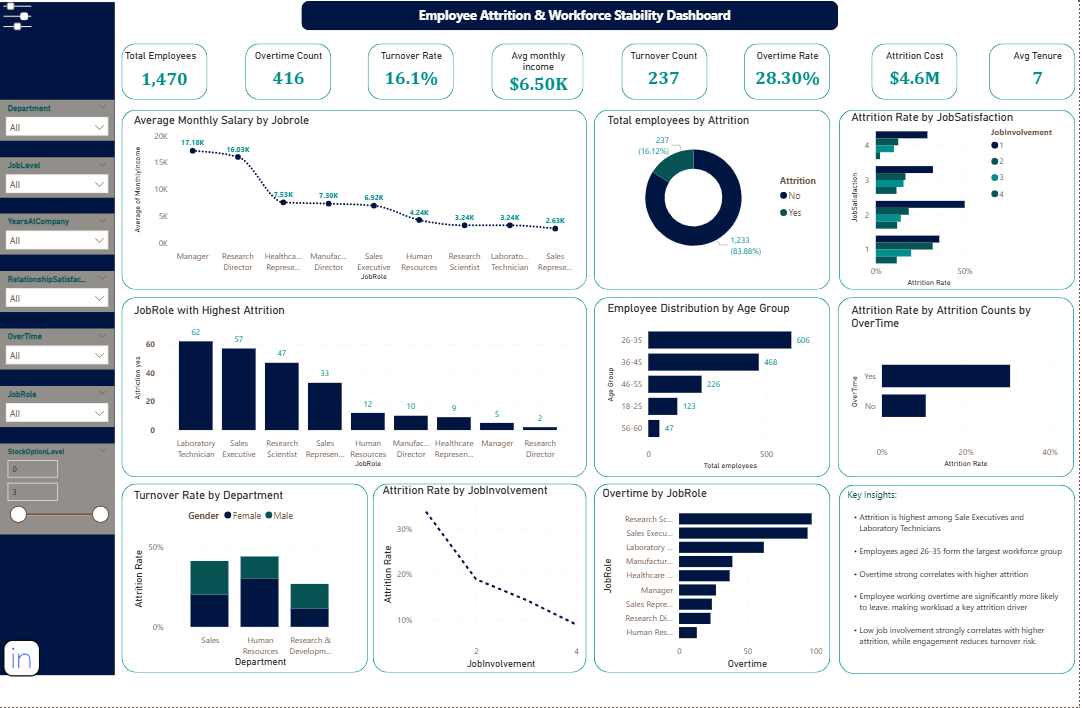

What the dashboard file says about the page in this screenshot:
{"tool":"powerbi","page":{"name":"Page 1","canvas":[1600,1060],"ordinal":0},"visuals":[{"type":"shape","box":[181.8,175.4,689.4,266.7],"z":0},{"type":"card","title":"Total Employees","fields":{"Values":["WA_Fn-UseC_-HR-Employee-Attrition.Total employees"]},"box":[181.8,86.4,127.3,68.2],"z":1000},{"type":"card","title":"Turnover Count","fields":{"Values":["Sum(WA_Fn-UseC_-HR-Employee-Attrition.Attrition Counts)"]},"box":[925.8,86.4,118.2,66.7],"z":2000},{"type":"card","title":"Turnover Rate","fields":{"Values":["WA_Fn-UseC_-HR-Employee-Attrition.Attrition Rate"]},"box":[551.5,86.4,118.2,66.7],"z":3000},{"type":"card","title":"Overtime Count","fields":{"Values":["WA_Fn-UseC_-HR-Employee-Attrition.Overtime(yes)"]},"box":[368.2,86.4,121.2,66.7],"z":4000},{"type":"card","title":"Avg monthly income","fields":{"Values":["WA_Fn-UseC_-HR-Employee-Attrition.avg monthincome"]},"box":[736.4,86.4,124.2,66.7],"z":5000},{"type":"card","title":"Overtime Rate","fields":{"Values":["WA_Fn-UseC_-HR-Employee-Attrition.over"]},"box":[1109.1,86.4,118.2,66.7],"z":6000},{"type":"clusteredBarChart","title":"Employee Distribution by Age Group","fields":{"Category":["WA_Fn-UseC_-HR-Employee-Attrition.Age Group"],"Y":["WA_Fn-UseC_-HR-Employee-Attrition.Total employees"]},"box":[895.5,459.1,324.2,254.5],"z":7000},{"type":"donutChart","fields":{"Category":["WA_Fn-UseC_-HR-Employee-Attrition.Attrition"],"Y":["WA_Fn-UseC_-HR-Employee-Attrition.Total employees"]},"box":[895.5,181.8,336.4,230.3],"z":8000},{"type":"shape","box":[448.7,15.7,795,43.3],"z":9000},{"type":"shape","box":[0,16.7,171.2,997],"z":10000},{"type":"textbox","box":[603.3,18.4,498.5,37.9],"z":11000},{"type":"shape","box":[181.8,77.3,127.3,83.3],"z":12000},{"type":"stackedAreaChart","title":"Average Monthly Salary by Jobrole","fields":{"Category":["WA_Fn-UseC_-HR-Employee-Attrition.JobRole"],"Y":["Avg(WA_Fn-UseC_-HR-Employee-Attrition.MonthlyIncome)"]},"box":[193.9,181.8,666.7,253],"z":13000},{"type":"shape","box":[547,77.3,127.3,83.3],"z":14000},{"type":"shape","box":[364.5,77.3,127.3,83.3],"z":15000},{"type":"shape","box":[730,77.3,136.4,83.3],"z":16000},{"type":"shape","box":[921.8,77.3,127.3,83.3],"z":17000},{"type":"shape","box":[1104.5,77.3,127.3,83.3],"z":18000},{"type":"shape","box":[881.8,175.8,350,266.7],"z":19000},{"type":"columnChart","title":"JobRole with Highest Attrition","fields":{"Category":["WA_Fn-UseC_-HR-Employee-Attrition.JobRole"],"Y":["WA_Fn-UseC_-HR-Employee-Attrition.Attriction yes"]},"box":[193.9,462.1,663.6,248.5],"z":20000},{"type":"shape","box":[181.8,453,689.4,266.7],"z":21000},{"type":"shape","box":[881.8,453,350,266.7],"z":22000},{"type":"slicer","fields":{"Values":["WA_Fn-UseC_-HR-Employee-Attrition.Department"]},"box":[0,160.6,171.2,60.6],"z":23000},{"type":"slicer","fields":{"Values":["WA_Fn-UseC_-HR-Employee-Attrition.JobLevel"]},"box":[0,245.8,171.2,60],"z":24000},{"type":"slicer","fields":{"Values":["WA_Fn-UseC_-HR-Employee-Attrition.YearsAtCompany"]},"box":[0,330.4,171.2,60.6],"z":25000},{"type":"slicer","fields":{"Values":["WA_Fn-UseC_-HR-Employee-Attrition.RelationshipSatisfaction"]},"box":[0,415.6,171.2,60.6],"z":26000},{"type":"columnChart","title":"Turnover Rate by Department","fields":{"Category":["WA_Fn-UseC_-HR-Employee-Attrition.Department"],"Y":["WA_Fn-UseC_-HR-Employee-Attrition.Attrition Rate"],"Series":["WA_Fn-UseC_-HR-Employee-Attrition.Gender"]},"box":[193.9,737.9,331.8,269.7],"z":27000},{"type":"shape","box":[181.8,730.3,365.2,280.3],"z":28000},{"type":"lineChart","fields":{"Category":["WA_Fn-UseC_-HR-Employee-Attrition.JobInvolvement"],"Y":["WA_Fn-UseC_-HR-Employee-Attrition.Attrition Rate"]},"box":[563.6,730.3,307.6,280.3],"z":29000},{"type":"shape","box":[554.5,730.3,316.7,280.3],"z":30000},{"type":"shape","box":[881.8,730.3,350,280.3],"z":31000},{"type":"clusteredBarChart","title":"Overtime by JobRole","fields":{"Category":["WA_Fn-UseC_-HR-Employee-Attrition.JobRole"],"Y":["WA_Fn-UseC_-HR-Employee-Attrition.Overtime(yes)"]},"box":[889.4,733.3,336.4,277.3],"z":32000},{"type":"slicer","fields":{"Values":["WA_Fn-UseC_-HR-Employee-Attrition.OverTime"]},"box":[0,500.8,171.2,60.6],"z":33000},{"type":"slicer","fields":{"Values":["WA_Fn-UseC_-HR-Employee-Attrition.JobRole"]},"box":[0,586,171.2,60.6],"z":34000},{"type":"slicer","fields":{"Values":["WA_Fn-UseC_-HR-Employee-Attrition.StockOptionLevel"]},"box":[0,671.2,171.2,133.3],"z":35000},{"type":"shape","box":[1466.7,77.8,127.8,83.3],"z":38000},{"type":"shape","box":[1292.4,77.3,127.3,83.3],"z":39000},{"type":"card","title":"Attrition Cost","fields":{"Values":["WA_Fn-UseC_-HR-Employee-Attrition.Attrition Cost"]},"box":[1303,86.4,106.1,66.7],"z":40000},{"type":"card","title":"Avg Tenure","fields":{"Values":["WA_Fn-UseC_-HR-Employee-Attrition.Avg Tenure"]},"box":[1484.8,86.4,107.6,65.2],"z":41000},{"type":"clusteredBarChart","title":"Attrition Rate by JobSatisfaction","fields":{"Category":["WA_Fn-UseC_-HR-Employee-Attrition.JobSatisfaction"],"Y":["WA_Fn-UseC_-HR-Employee-Attrition.Attrition Rate"],"Series":["WA_Fn-UseC_-HR-Employee-Attrition.JobInvolvement"]},"box":[1257.6,175.8,322.7,266.7],"z":42000},{"type":"shape","box":[1243.9,175.8,350,266.7],"z":43000},{"type":"shape","box":[1242.4,453,350,266.7],"z":44000},{"type":"clusteredBarChart","title":"Attrition Rate by  Attrition Counts by OverTime","fields":{"Category":["WA_Fn-UseC_-HR-Employee-Attrition.OverTime"],"Y":["WA_Fn-UseC_-HR-Employee-Attrition.Attrition Rate"]},"box":[1257.6,462.1,316.7,248.5],"z":45000},{"type":"shape","box":[1243.9,731.1,350,280.3],"z":46000},{"type":"textbox","box":[1251.5,731.8,328.8,263.6],"z":47000},{"type":"image","box":[0,75.9,35.2,40.7],"z":49000}]}

Visuals, with their boxes on the page's 1600x1060 design canvas (x1, y1, x2, y2). These are canvas units, not pixel positions in the 1082x708 screenshot, which may show the page scaled, cropped or inside an application window:
shape: crop(182, 175, 871, 442)
"Total Employees" card: crop(182, 86, 309, 155)
"Turnover Count" card: crop(926, 86, 1044, 153)
"Turnover Rate" card: crop(552, 86, 670, 153)
"Overtime Count" card: crop(368, 86, 489, 153)
"Avg monthly income" card: crop(736, 86, 861, 153)
"Overtime Rate" card: crop(1109, 86, 1227, 153)
"Employee Distribution by Age Group" clusteredBarChart: crop(896, 459, 1220, 714)
donutChart - WA_Fn-UseC_-HR-Employee-Attrition.Attrition x WA_Fn-UseC_-HR-Employee-Attrition.Total employees: crop(896, 182, 1232, 412)
shape: crop(449, 16, 1244, 59)
shape: crop(0, 17, 171, 1014)
textbox: crop(603, 18, 1102, 56)
shape: crop(182, 77, 309, 161)
"Average Monthly Salary by Jobrole" stackedAreaChart: crop(194, 182, 861, 435)
shape: crop(547, 77, 674, 161)
shape: crop(364, 77, 492, 161)
shape: crop(730, 77, 866, 161)
shape: crop(922, 77, 1049, 161)
shape: crop(1104, 77, 1232, 161)
shape: crop(882, 176, 1232, 442)
"JobRole with Highest Attrition" columnChart: crop(194, 462, 858, 711)
shape: crop(182, 453, 871, 720)
shape: crop(882, 453, 1232, 720)
slicer - WA_Fn-UseC_-HR-Employee-Attrition.Department: crop(0, 161, 171, 221)
slicer - WA_Fn-UseC_-HR-Employee-Attrition.JobLevel: crop(0, 246, 171, 306)
slicer - WA_Fn-UseC_-HR-Employee-Attrition.YearsAtCompany: crop(0, 330, 171, 391)
slicer - WA_Fn-UseC_-HR-Employee-Attrition.RelationshipSatisfaction: crop(0, 416, 171, 476)
"Turnover Rate by Department" columnChart: crop(194, 738, 526, 1008)
shape: crop(182, 730, 547, 1011)
lineChart - WA_Fn-UseC_-HR-Employee-Attrition.JobInvolvement x WA_Fn-UseC_-HR-Employee-Attrition.Attrition Rate: crop(564, 730, 871, 1011)
shape: crop(554, 730, 871, 1011)
shape: crop(882, 730, 1232, 1011)
"Overtime by JobRole" clusteredBarChart: crop(889, 733, 1226, 1011)
slicer - WA_Fn-UseC_-HR-Employee-Attrition.OverTime: crop(0, 501, 171, 561)
slicer - WA_Fn-UseC_-HR-Employee-Attrition.JobRole: crop(0, 586, 171, 647)
slicer - WA_Fn-UseC_-HR-Employee-Attrition.StockOptionLevel: crop(0, 671, 171, 804)
shape: crop(1467, 78, 1594, 161)
shape: crop(1292, 77, 1420, 161)
"Attrition Cost" card: crop(1303, 86, 1409, 153)
"Avg Tenure" card: crop(1485, 86, 1592, 152)
"Attrition Rate by JobSatisfaction" clusteredBarChart: crop(1258, 176, 1580, 442)
shape: crop(1244, 176, 1594, 442)
shape: crop(1242, 453, 1592, 720)
"Attrition Rate by  Attrition Counts by OverTime" clusteredBarChart: crop(1258, 462, 1574, 711)
shape: crop(1244, 731, 1594, 1011)
textbox: crop(1252, 732, 1580, 995)
image: crop(0, 76, 35, 117)
